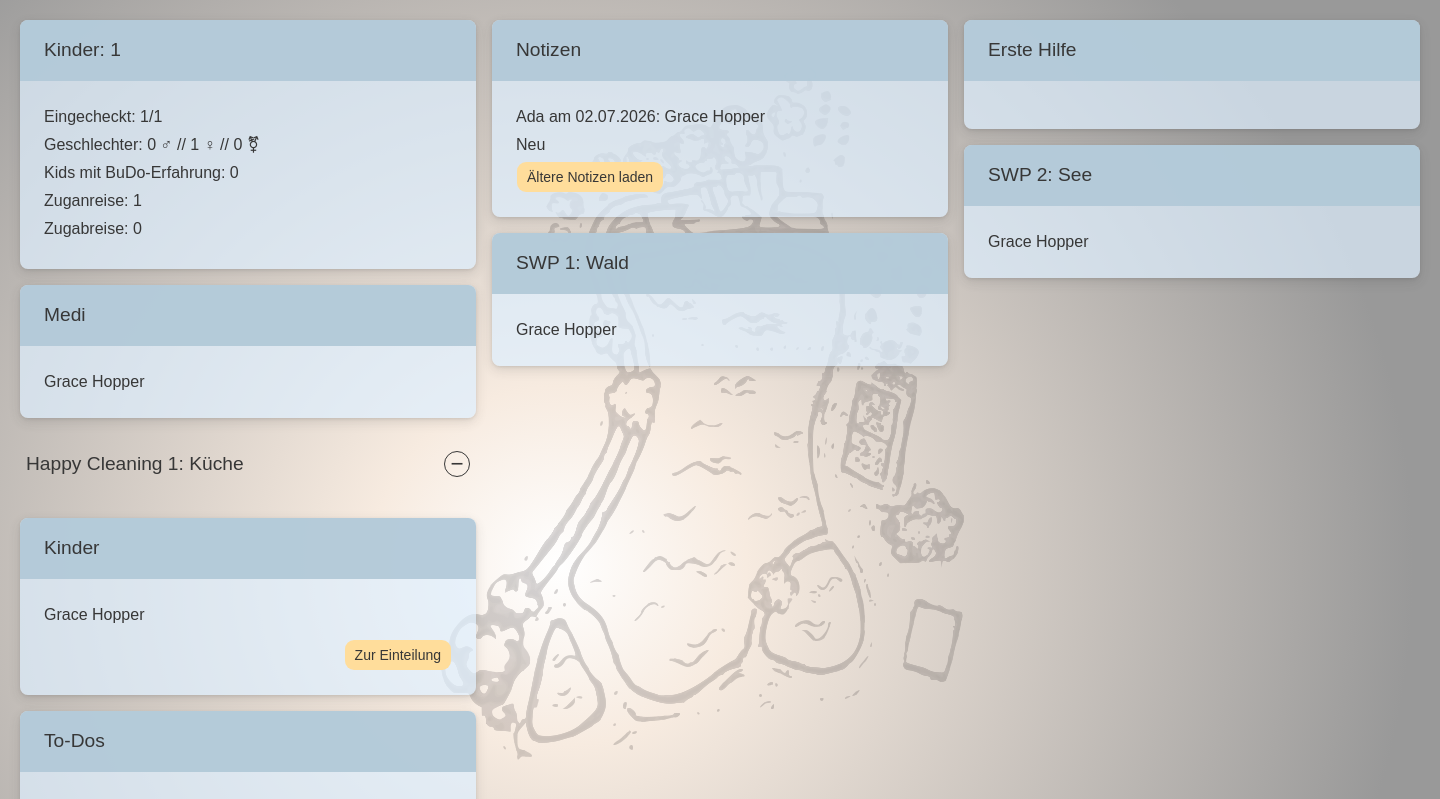
it: dashboard page › loads and appends the selected older activity page without duplicates
Step 1. Click the button "Ältere Notizen laden" → x=590, y=177, box [516, 161, 664, 193]
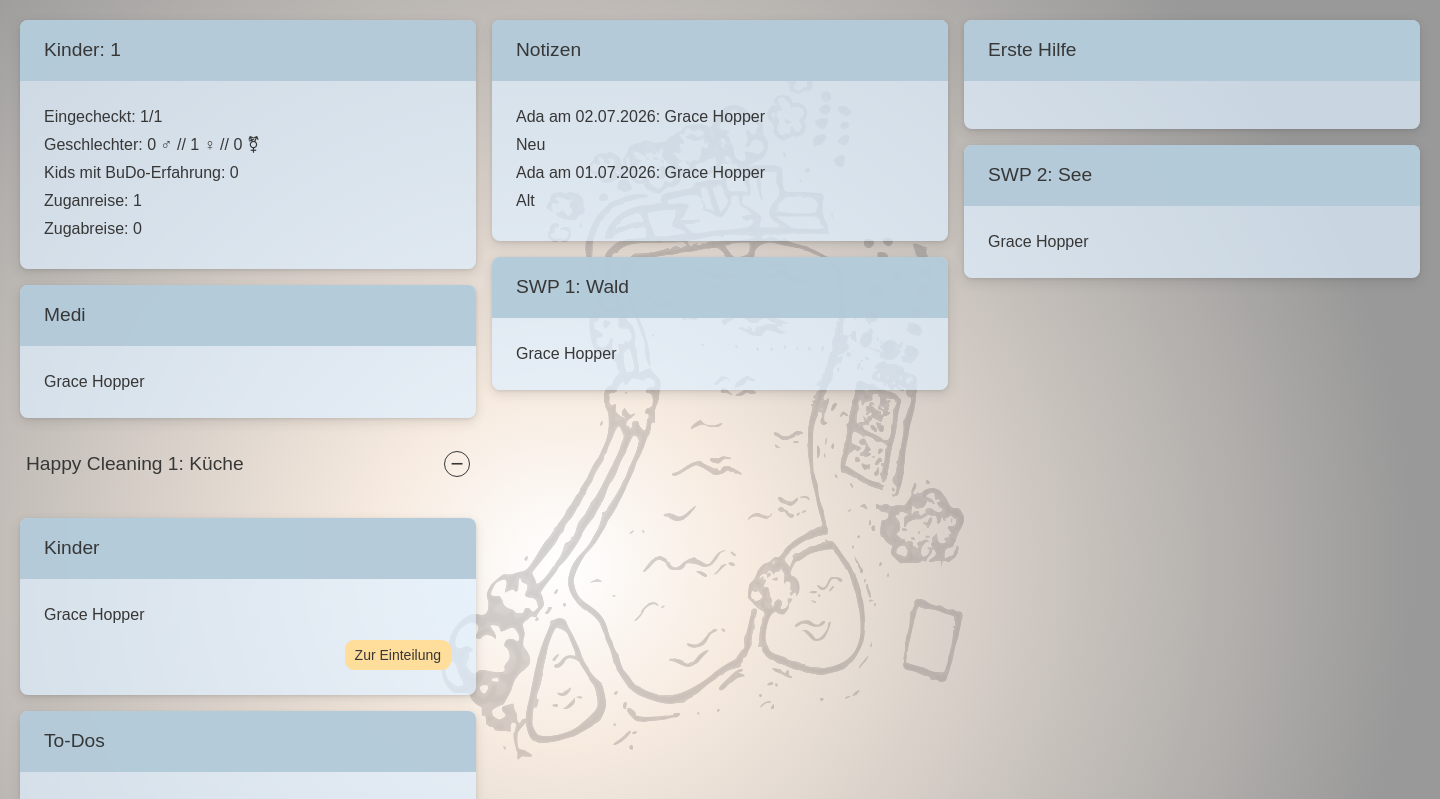
Expected: the text "Neu" is shown, [516, 136, 545, 153]
Expected: the text "Alt" is shown, [516, 192, 535, 209]
Expected: the button "Ältere Notizen laden" is gone
